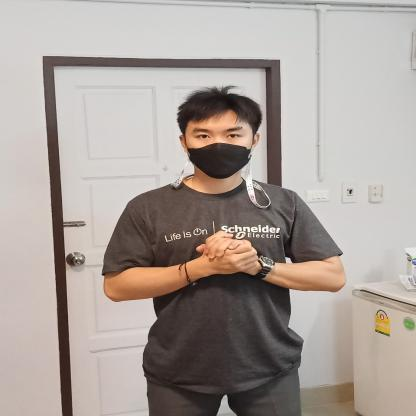Grieve: (141, 216, 307, 300)
